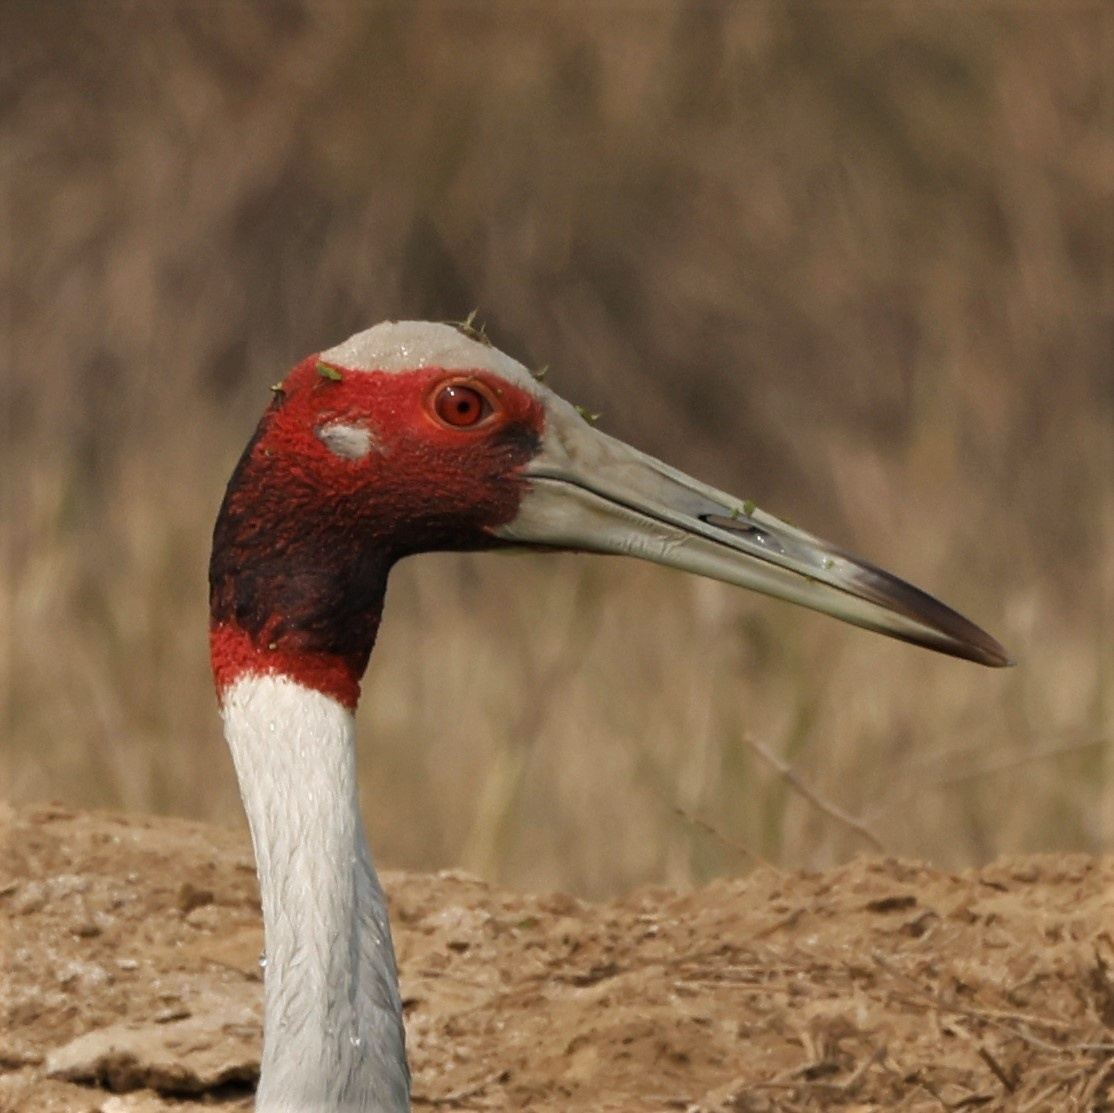crane: (159, 312, 1026, 1113)
